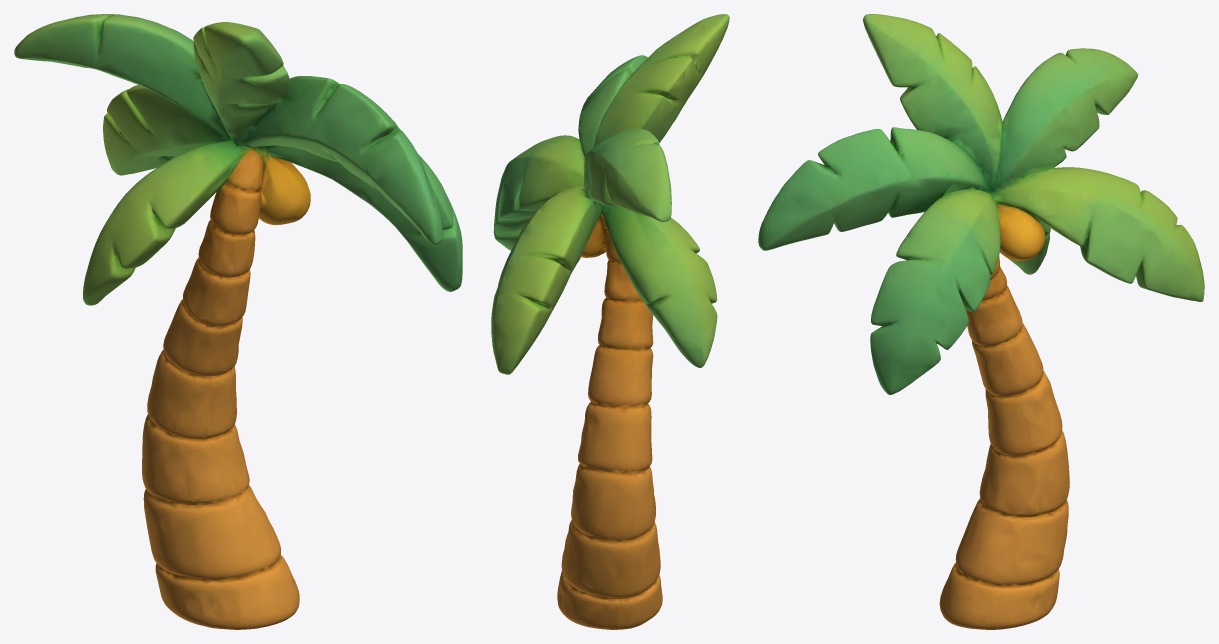
The model's file is palm.glb.
3 renders of one model, left to right at view 1: azimuth 30°, elevation 25°; view 2: azimuth 150°, elevation 25°; view 3: azimuth 270°, elevation 25°, orthographic. The views are drawn at different scales.
Visible parts, largest first — view 1: tripo_node_f592dc2a-b2a0-439a-8e2f-be27e72d1015; view 2: tripo_node_f592dc2a-b2a0-439a-8e2f-be27e72d1015; view 3: tripo_node_f592dc2a-b2a0-439a-8e2f-be27e72d1015.
Boxes of the visible parts, x1,y1,x2,y2 form: tripo_node_f592dc2a-b2a0-439a-8e2f-be27e72d1015: (14, 14, 462, 629); tripo_node_f592dc2a-b2a0-439a-8e2f-be27e72d1015: (491, 14, 729, 629); tripo_node_f592dc2a-b2a0-439a-8e2f-be27e72d1015: (758, 14, 1204, 629).
Size of the model in its own units: 0.5188 by 0.9995 by 0.7087.
1 material, 1 textured.
